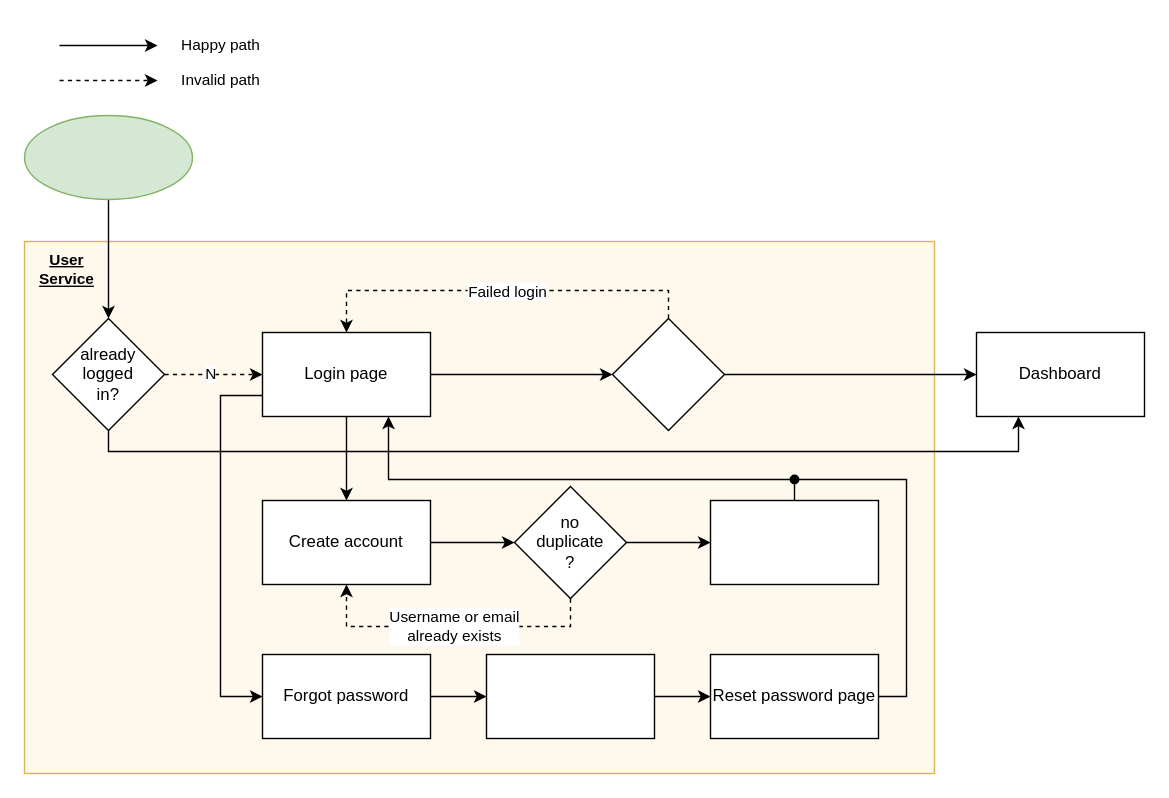
The diagram is 1169 pixels wide and 798 high, and some of its shapes have lost their labels. The centre of each missing label's shape, as x and y in pixels:
Check email to reset password: (569,695)
User accesses PeerPrep: (107,157)
valid credential ?: (667,373)
Verify with email: (793,541)
